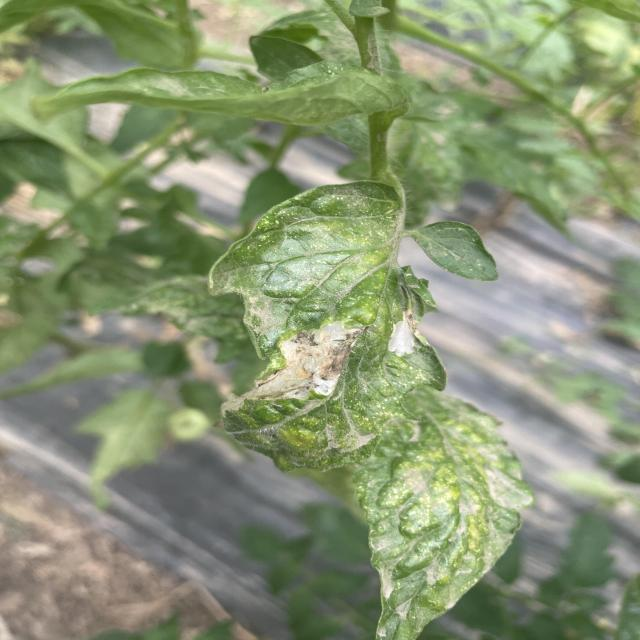Tuta absoluta: (242, 295, 371, 438), (386, 308, 424, 359)
